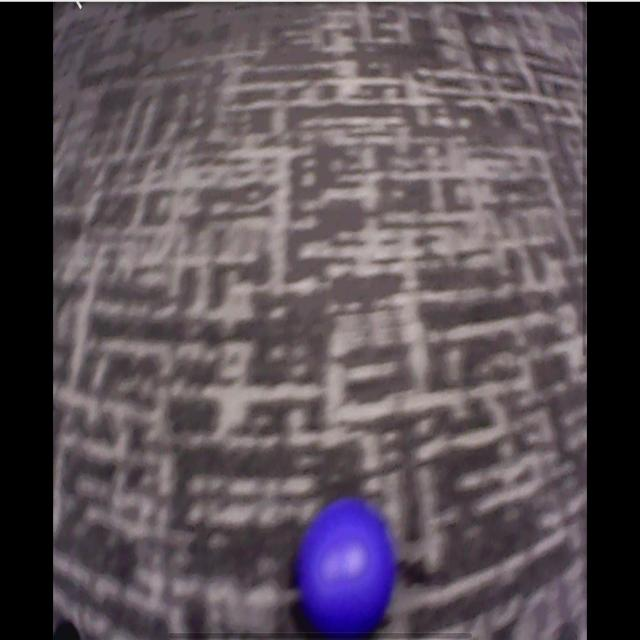ball: (305, 501, 392, 633)
